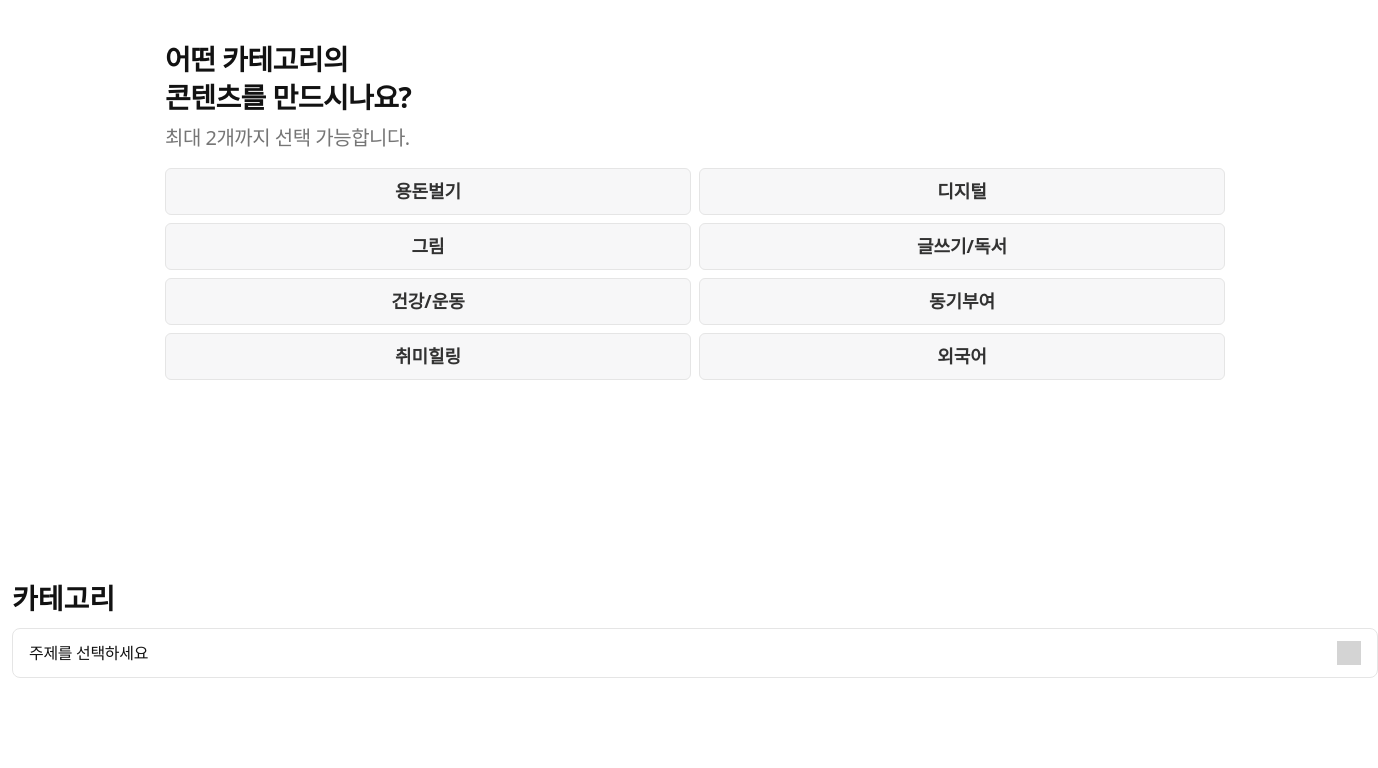
Test: CategorySelectPage 통합 테스트 › 메인 화면 연동 › 카테고리를 선택 취소하면 CategorySelector에서도 제거되어야 한다
This screenshot has width=1378, height=768.
Click the button with aria-label "용돈벌기 카테고리 선택": {"x": 428, "y": 192} [165,168,691,215]
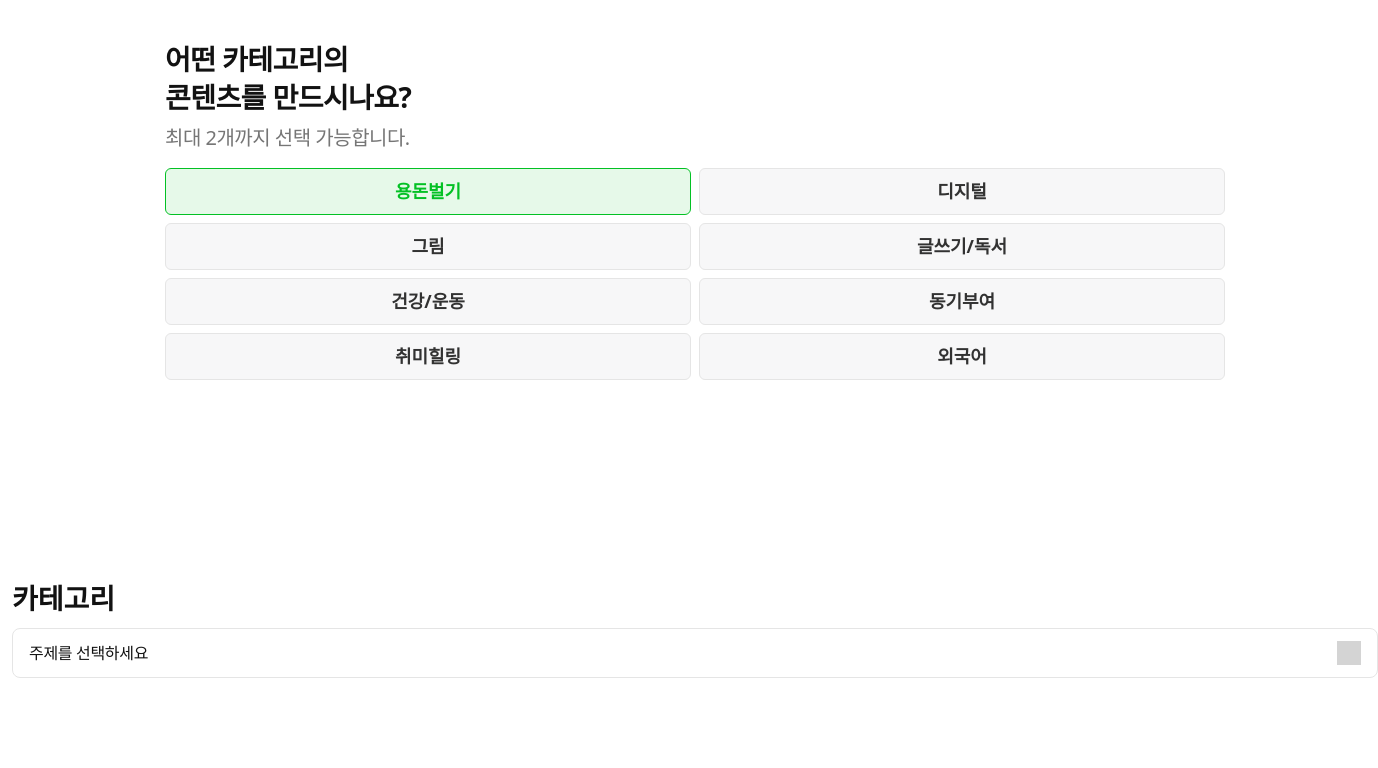
Click the button with aria-label "디지털 카테고리 선택": {"x": 962, "y": 192} [699,168,1225,215]
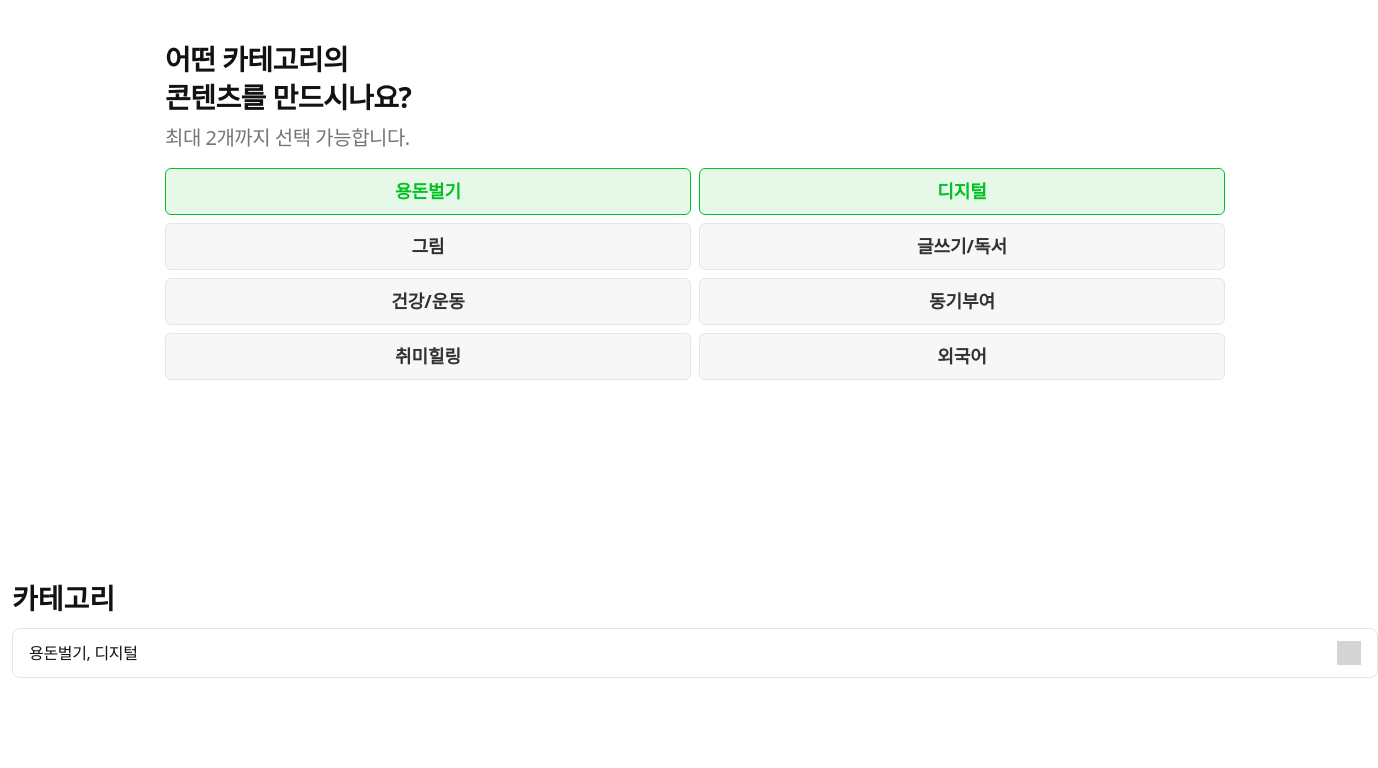
Check: the link reads "용돈벌기, 디지털", box [12,628,1377,678]
Click the button with aria-label "용돈벌기 카테고리 선택": {"x": 428, "y": 192} [165,168,691,215]
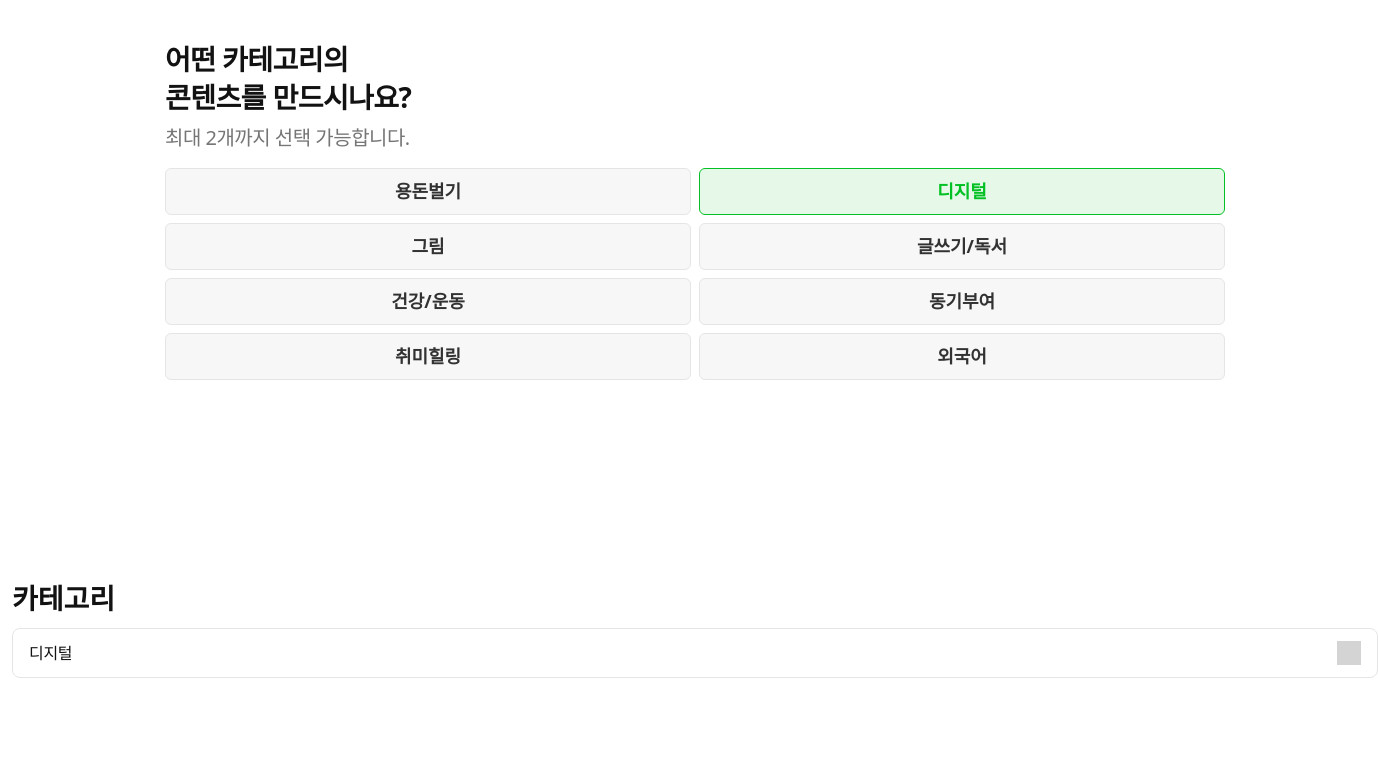
Check: the link reads "디지털", box [12,628,1377,678]
Check: the link "용돈벌기, 디지털" no longer shows "용돈벌기, 디지털"
